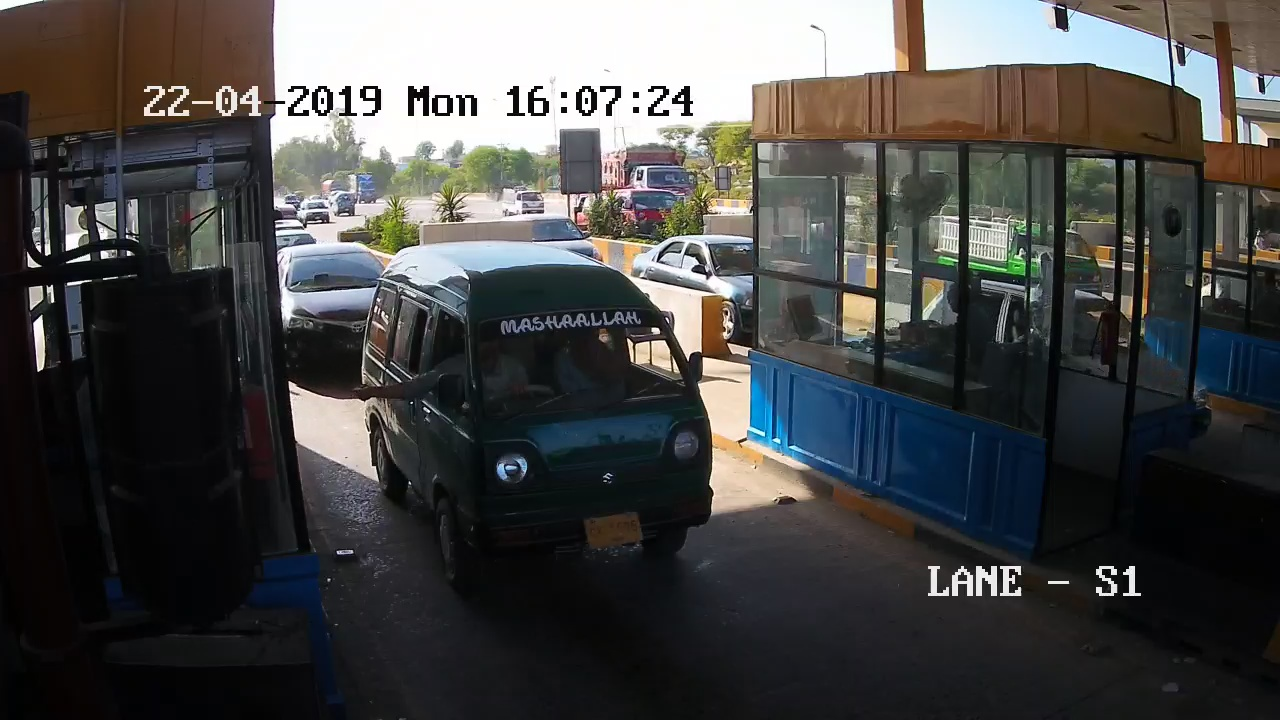Number Plate (Car): (580, 511, 646, 545)
